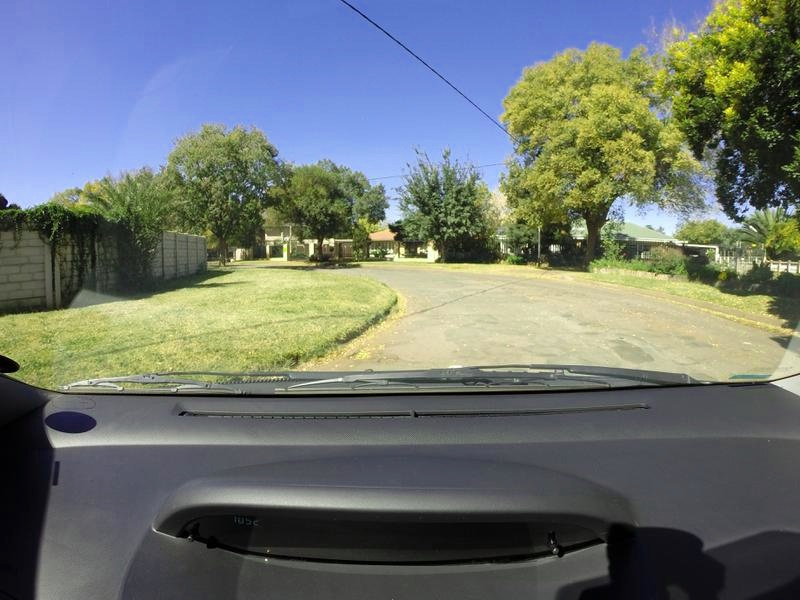pothole: (348, 347, 396, 363)
